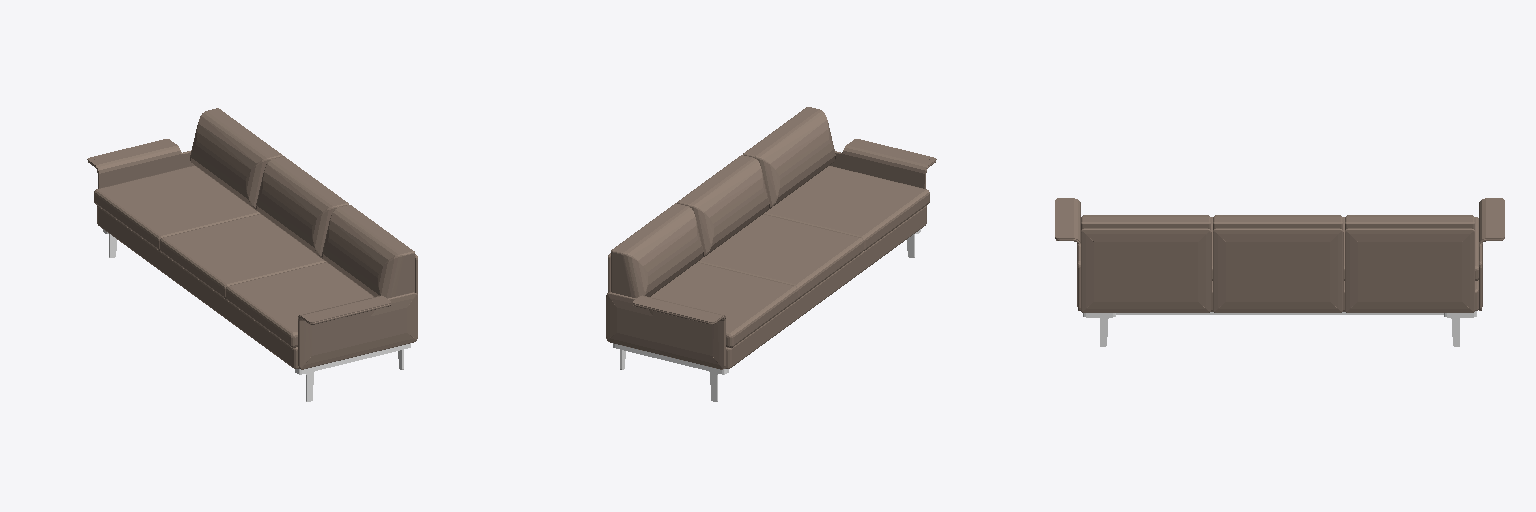
File: sofa.obj
3 renders of one model, left to right at view 1: azimuth 30°, elevation 25°; view 2: azimuth 150°, elevation 25°; view 3: azimuth 270°, elevation 25°, orthographic.
Parts seen in each view (by area): view 1: Mesh58, Mesh55, Mesh57, Mesh59; view 2: Mesh58, Mesh55, Mesh57, Mesh59; view 3: Mesh57, Mesh55, Mesh59.
Part boxes in pixels (x1,y1,x2,y2): Mesh58: (94, 165, 372, 347); Mesh55: (190, 108, 414, 297); Mesh57: (87, 139, 417, 369); Mesh59: (103, 229, 410, 401); Mesh58: (651, 166, 929, 347); Mesh55: (611, 107, 835, 297); Mesh57: (606, 139, 936, 369); Mesh59: (613, 229, 920, 401); Mesh57: (1055, 198, 1504, 312); Mesh55: (1081, 215, 1474, 229); Mesh59: (1083, 311, 1476, 346).
Size of the model in its own units: 7.91 by 7.4 by 24.09.